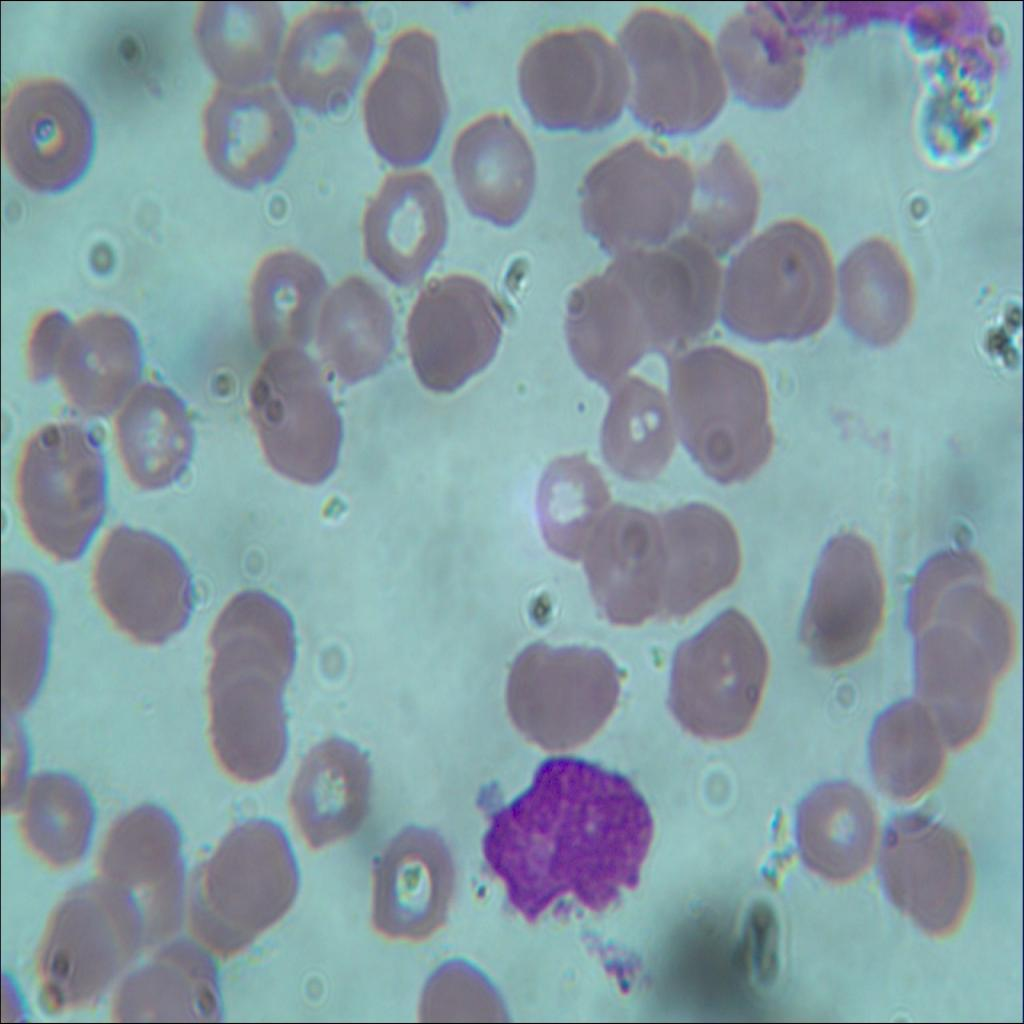Eritrosit: (668, 337, 778, 477), (664, 604, 766, 751), (711, 224, 835, 343), (639, 485, 746, 622), (616, 14, 724, 148), (574, 132, 698, 246), (410, 275, 516, 408), (83, 524, 201, 642), (506, 634, 628, 748), (246, 345, 346, 482), (0, 75, 99, 212), (195, 68, 299, 191), (238, 234, 338, 358), (451, 104, 542, 239), (366, 810, 460, 940), (349, 37, 446, 162), (574, 497, 666, 628), (21, 424, 109, 552), (882, 808, 974, 930), (804, 527, 882, 668), (278, 2, 376, 114), (616, 239, 723, 341), (58, 301, 151, 418), (903, 550, 991, 671), (354, 171, 454, 275), (26, 886, 116, 1000), (589, 372, 678, 486), (208, 582, 298, 694), (190, 0, 293, 95), (286, 727, 369, 844), (314, 266, 398, 378), (912, 625, 986, 752), (115, 376, 198, 488), (209, 818, 298, 922), (717, 0, 795, 118), (870, 701, 950, 815), (201, 669, 286, 775), (842, 230, 918, 348), (509, 29, 596, 132), (91, 858, 191, 947), (935, 578, 1018, 685), (93, 795, 179, 898), (549, 29, 633, 134), (204, 621, 286, 724), (544, 444, 613, 565), (799, 772, 874, 882), (678, 147, 756, 252), (18, 770, 101, 867), (569, 268, 646, 371), (176, 851, 250, 958), (139, 924, 216, 1023)
Limfoblast: (475, 745, 655, 930)
Platelet: (566, 385, 589, 421)
